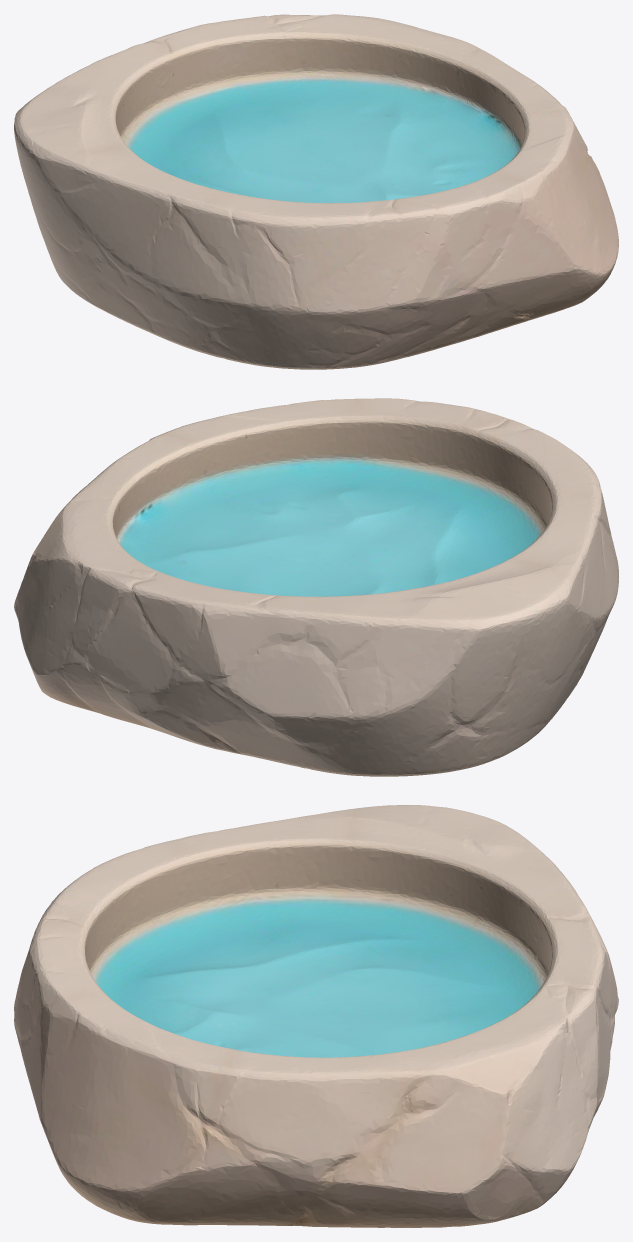
File: bowl_water_5.glb
3 views of the same model, one above another, from view 1: azimuth 30°, elevation 25°; view 2: azimuth 150°, elevation 25°; view 3: azimuth 270°, elevation 25° (orthographic). The views are drawn at different scales.
Visible parts, largest first — view 1: tripo_node_7e35a720-68a3-47bd-95f0-fa4d5317b0c8; view 2: tripo_node_7e35a720-68a3-47bd-95f0-fa4d5317b0c8; view 3: tripo_node_7e35a720-68a3-47bd-95f0-fa4d5317b0c8.
Part boxes in pixels (<box>): tripo_node_7e35a720-68a3-47bd-95f0-fa4d5317b0c8: <box>14,14,618,369</box>; tripo_node_7e35a720-68a3-47bd-95f0-fa4d5317b0c8: <box>14,398,618,776</box>; tripo_node_7e35a720-68a3-47bd-95f0-fa4d5317b0c8: <box>14,805,618,1227</box>.
Size of the model in its own units: 0.9978 by 0.3106 by 0.9481.
1 material, 1 textured.
